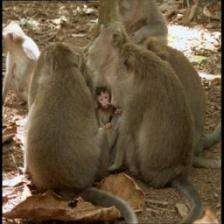monkey: (97, 24, 130, 54), (0, 22, 24, 59), (91, 82, 117, 116), (116, 0, 142, 22)
